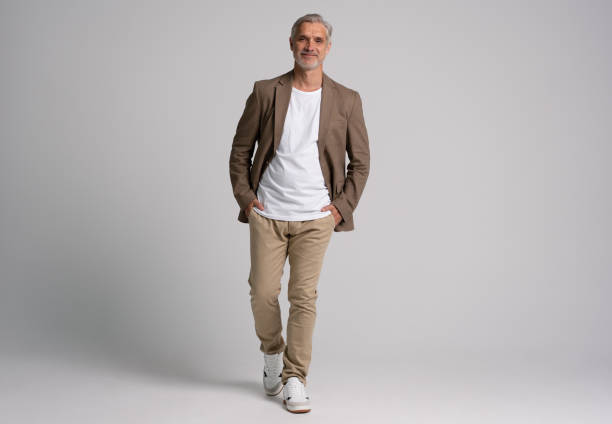Male: (230, 12, 374, 401)
